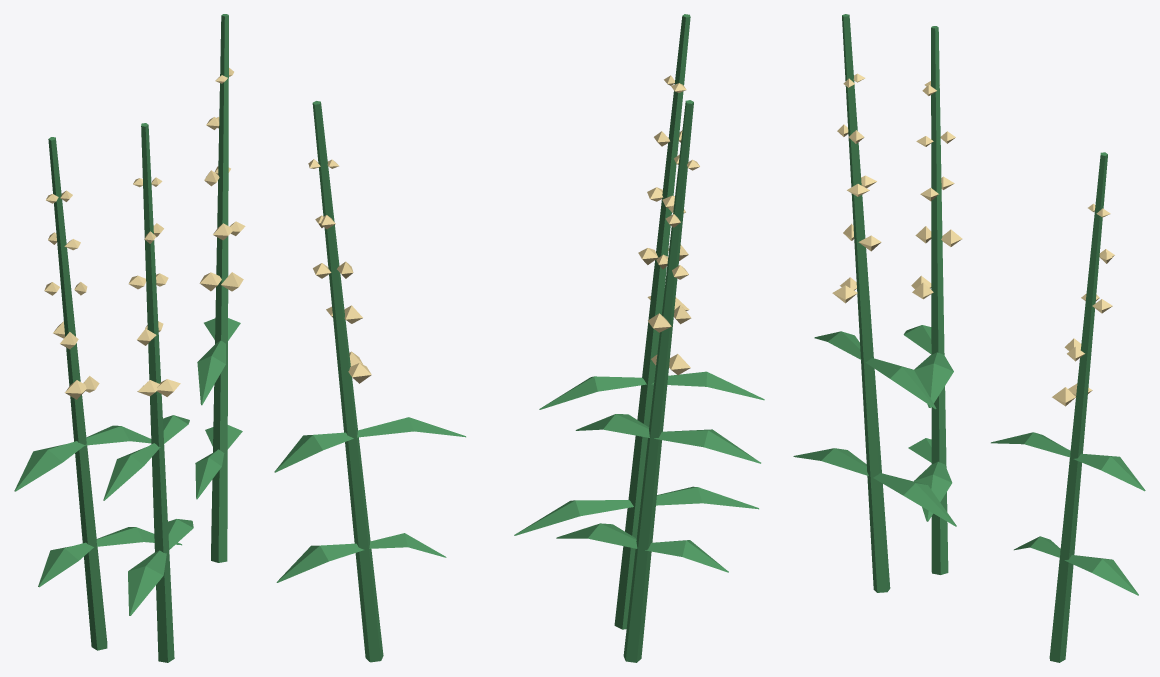
The model's file is flowers_tall_c.glb.
The picture shows the model from 3 angles, left to right: view 1: azimuth 30°, elevation 25°; view 2: azimuth 150°, elevation 25°; view 3: azimuth 270°, elevation 25°; orthographic projection. The views are drawn at different scales.
Parts seen in each view (by area): view 1: FlowersTallC; view 2: FlowersTallC; view 3: FlowersTallC.
Boxes of the visible parts, x1,y1,x2,y2 form: FlowersTallC: [14, 14, 245, 662]; FlowersTallC: [274, 14, 764, 662]; FlowersTallC: [793, 14, 1145, 662].
Size of the model in its own units: 0.7459 by 1.21 by 0.6925.
